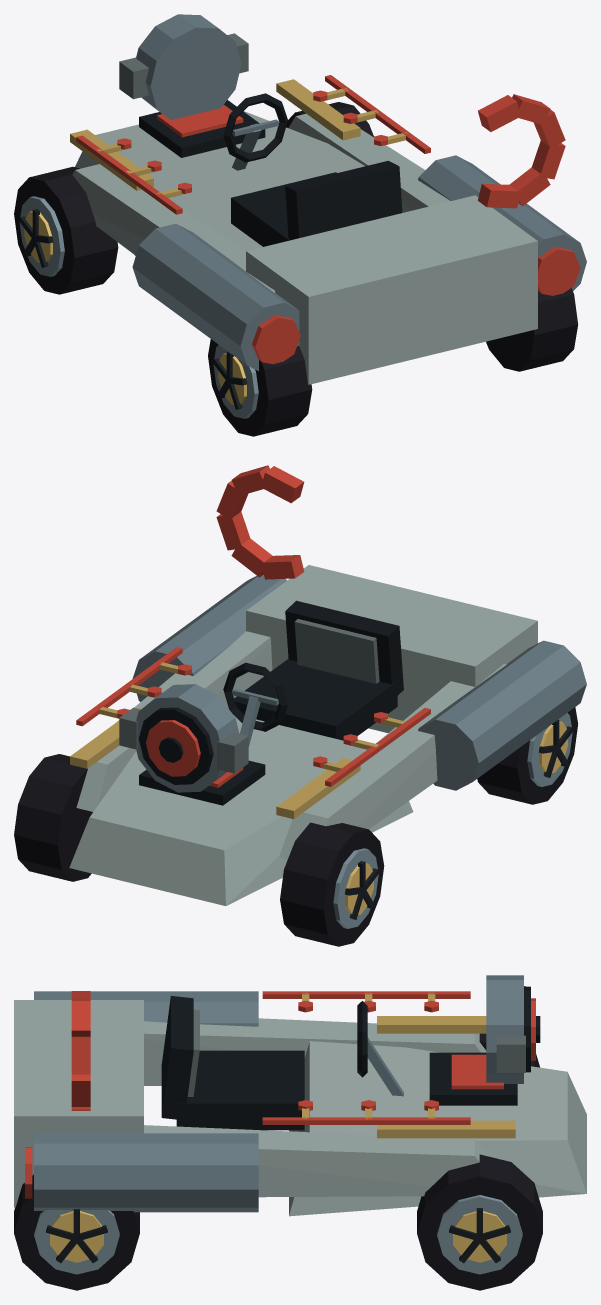
The model's file is kart.glb.
3 views of the same model, one above another, from view 1: azimuth 30°, elevation 25°; view 2: azimuth 150°, elevation 25°; view 3: azimuth 270°, elevation 25° (orthographic). The views are drawn at different scales.
Parts seen in each view (by area): view 1: identity-lab-pod-lab-pod-segmented-shell, identity-lab-pod-driver-cockpit, identity-lab-pod-motif-optic, wheel-front-left, wheel-rear-left, identity-lab-pod-motif-moon, wheel-rear-right, identity-lab-pod-motif-circuit; view 2: identity-lab-pod-lab-pod-segmented-shell, identity-lab-pod-driver-cockpit, wheel-front-left, identity-lab-pod-motif-optic, wheel-front-right, wheel-rear-left, identity-lab-pod-motif-moon, identity-lab-pod-motif-circuit; view 3: identity-lab-pod-lab-pod-segmented-shell, identity-lab-pod-driver-cockpit, wheel-front-right, wheel-rear-right, identity-lab-pod-motif-optic, identity-lab-pod-motif-circuit, identity-lab-pod-motif-moon.
Part boxes in pixels (<box>): identity-lab-pod-lab-pod-segmented-shell: <box>70,79,586,384</box>; identity-lab-pod-driver-cockpit: <box>223,93,402,246</box>; identity-lab-pod-motif-optic: <box>119,14,248,119</box>; wheel-front-left: <box>14,166,118,294</box>; wheel-rear-left: <box>208,339,312,436</box>; identity-lab-pod-motif-moon: <box>478,94,565,208</box>; wheel-rear-right: <box>486,288,578,371</box>; identity-lab-pod-motif-circuit: <box>76,75,430,214</box>; identity-lab-pod-lab-pod-segmented-shell: <box>69,565,586,905</box>; identity-lab-pod-driver-cockpit: <box>223,600,403,746</box>; wheel-front-left: <box>280,822,384,946</box>; identity-lab-pod-motif-optic: <box>119,684,248,792</box>; wheel-front-right: <box>14,754,92,881</box>; wheel-rear-left: <box>477,707,577,804</box>; identity-lab-pod-motif-moon: <box>216,465,304,579</box>; identity-lab-pod-motif-circuit: <box>76,647,430,786</box>; identity-lab-pod-lab-pod-segmented-shell: <box>14,991,586,1216</box>; identity-lab-pod-driver-cockpit: <box>161,996,403,1130</box>; wheel-front-right: <box>417,1154,542,1290</box>; wheel-rear-right: <box>14,1174,139,1290</box>; identity-lab-pod-motif-optic: <box>486,975,540,1083</box>; identity-lab-pod-motif-circuit: <box>262,991,470,1124</box>; identity-lab-pod-motif-moon: <box>71,991,90,1110</box>.
Size of the model in its own units: 1.98 by 1.45 by 2.73.
